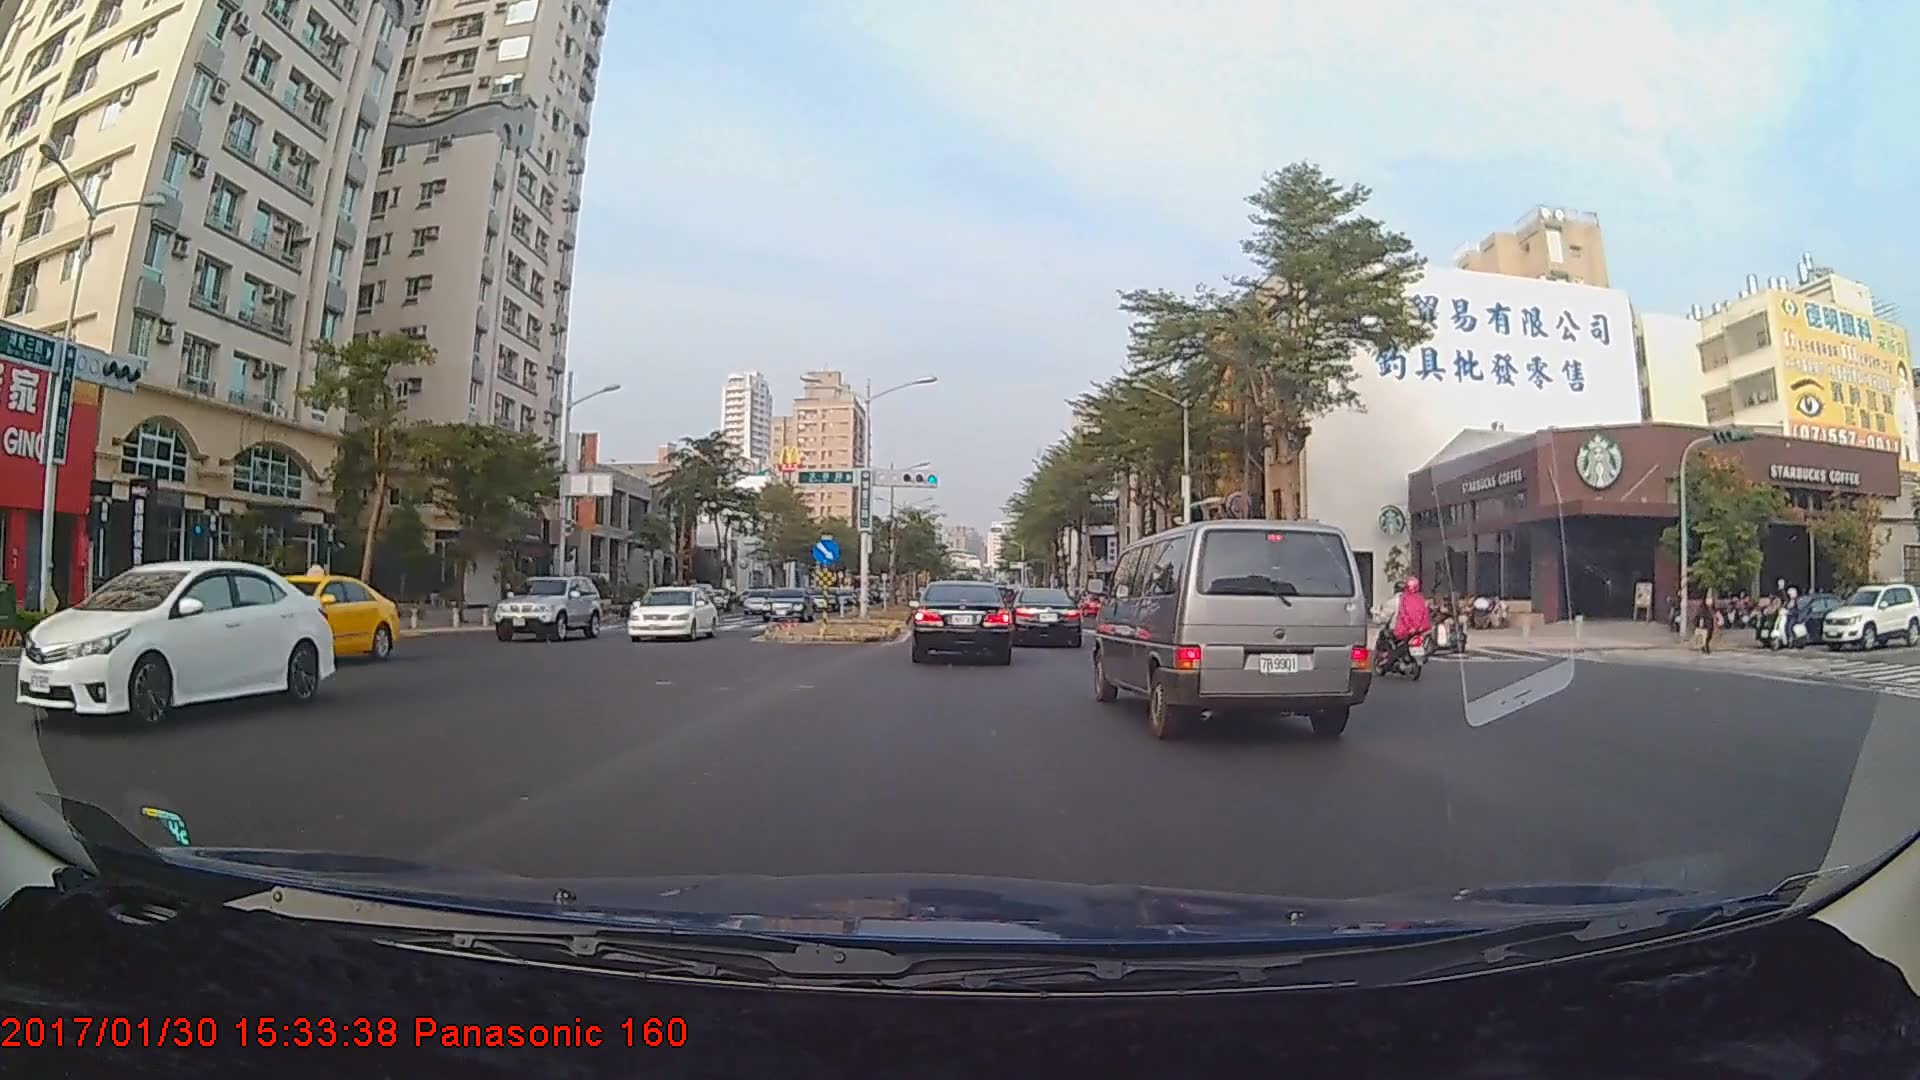pedestrian: (1700, 586, 1720, 653)
rider: (1370, 572, 1442, 676), (1765, 583, 1813, 653)
vehicle: (1099, 514, 1367, 739), (11, 559, 338, 727), (213, 574, 396, 660), (912, 579, 1013, 665), (489, 568, 596, 638), (1817, 584, 1918, 646), (623, 585, 717, 641), (1012, 586, 1083, 647), (757, 585, 815, 620)
